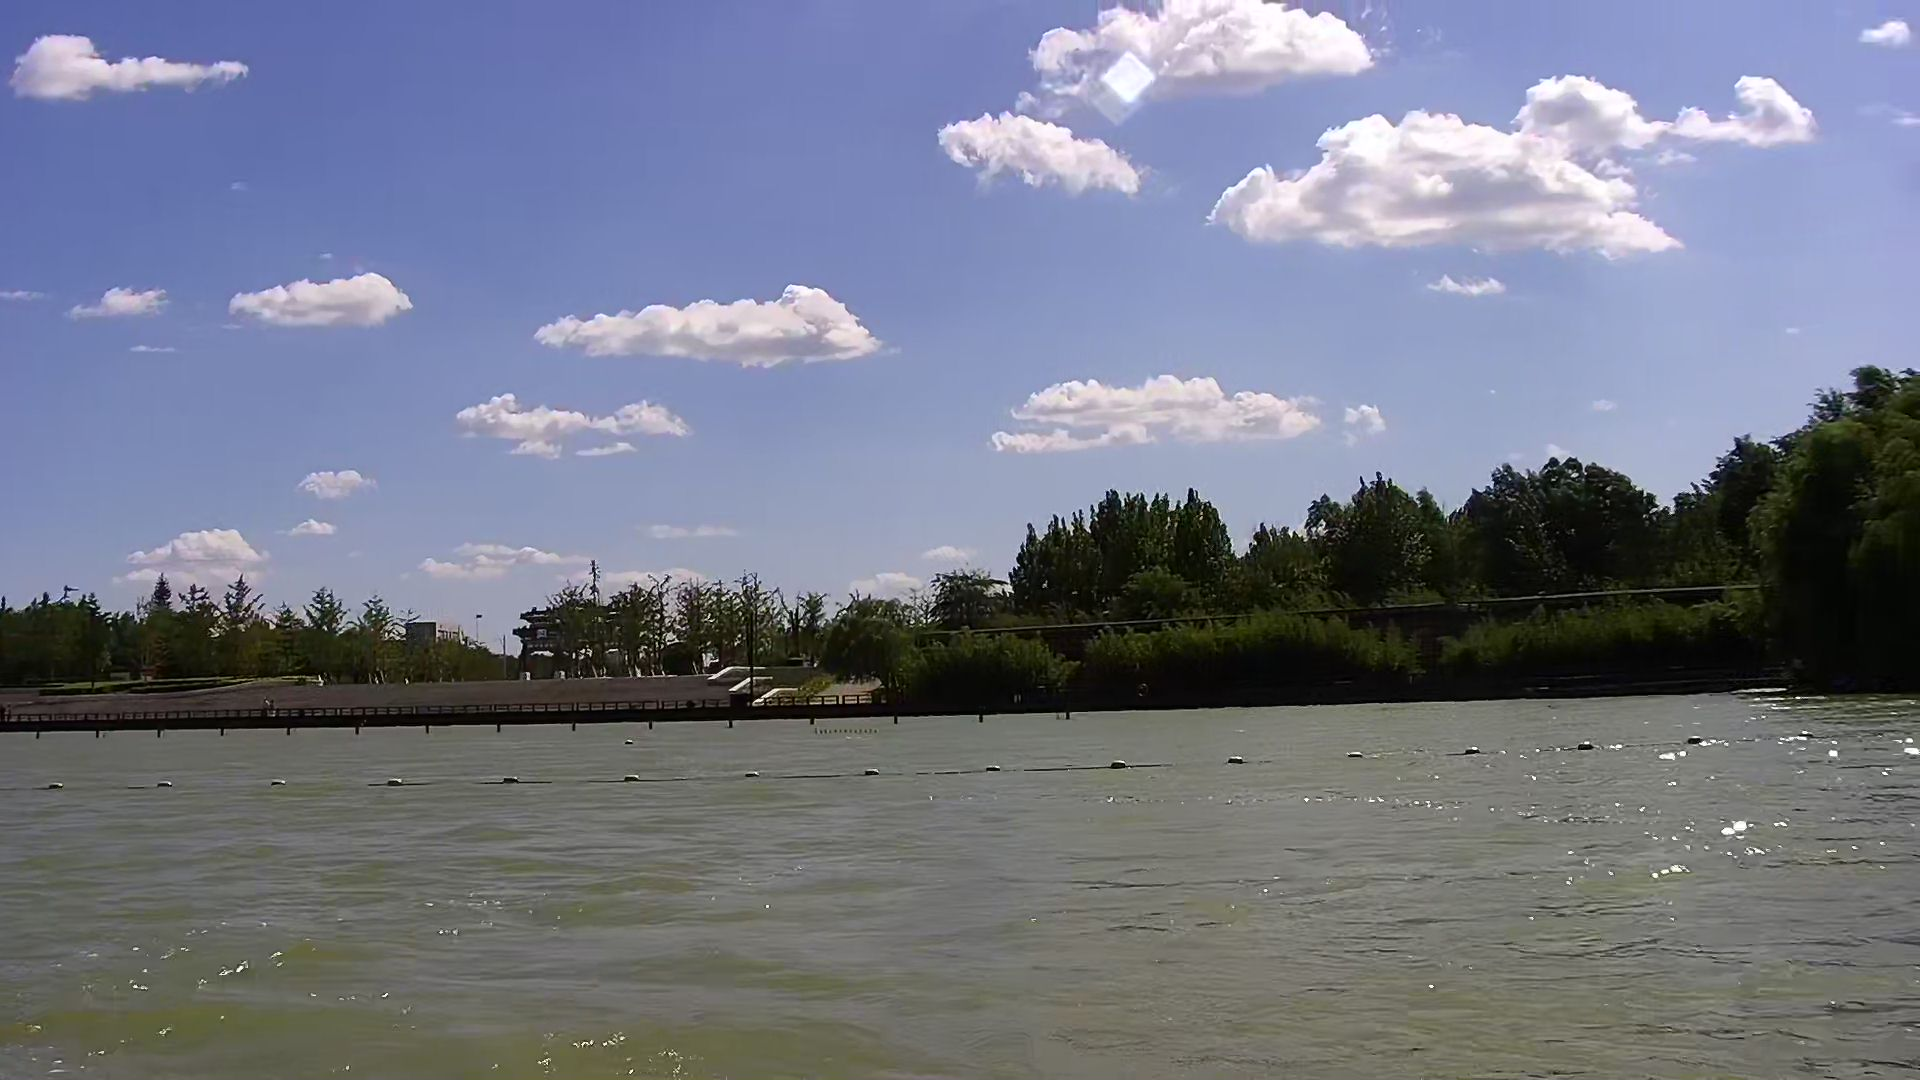ball: (1458, 741, 1484, 764), (858, 764, 887, 781), (1573, 736, 1597, 756), (738, 767, 767, 783), (382, 775, 409, 793), (1226, 752, 1249, 771), (618, 770, 649, 785), (44, 778, 69, 794), (980, 764, 1009, 777), (1683, 735, 1709, 748), (500, 773, 524, 787), (1110, 756, 1129, 774), (269, 775, 287, 791), (154, 777, 177, 789)
harbor: (1, 683, 858, 727)
